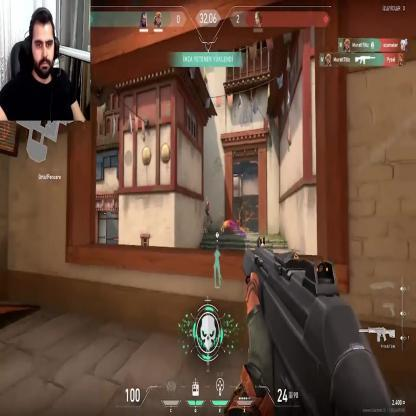enemy: (204, 197, 212, 224)
enemy_head: (206, 197, 209, 203)
